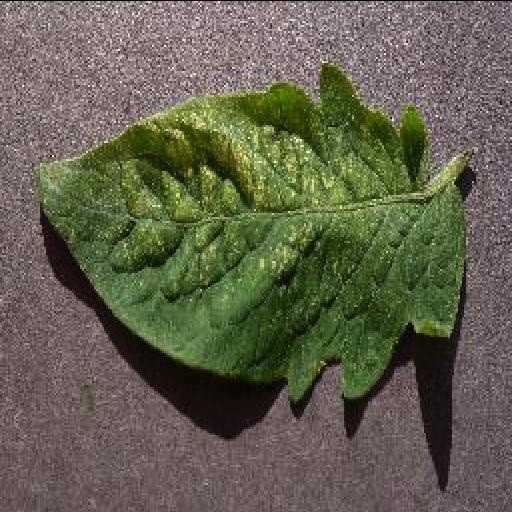disease_tomato: (34, 64, 464, 400)
